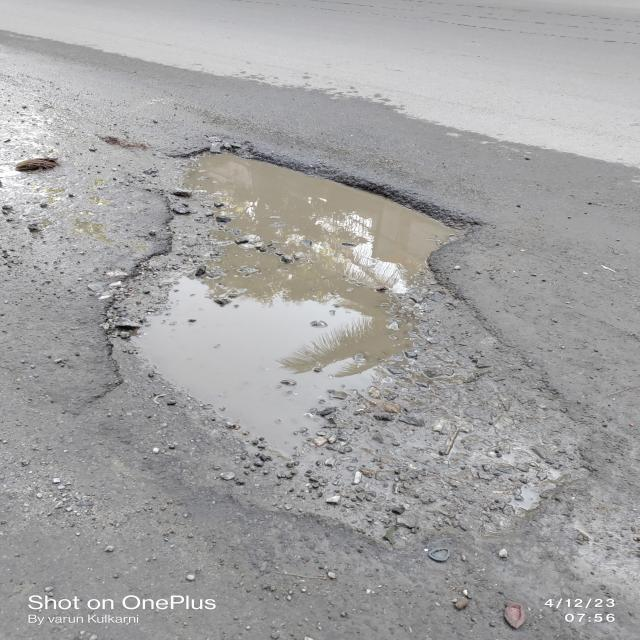Puddle pothole: (100, 135, 565, 508)
